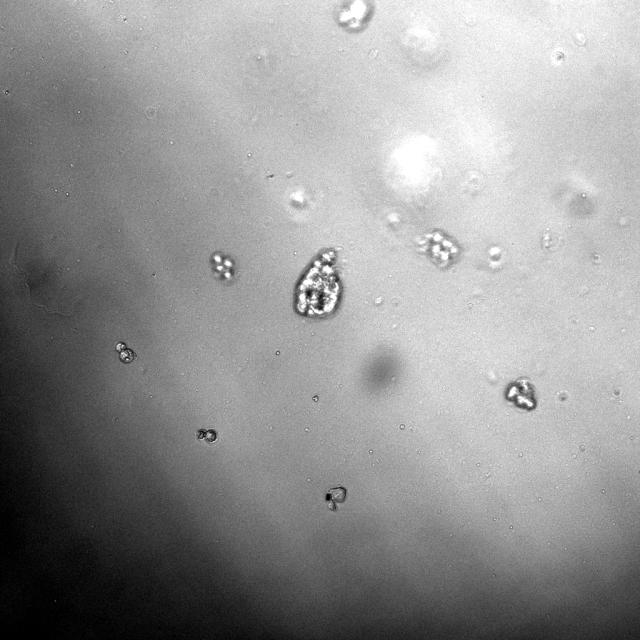organoid: (294, 247, 343, 318), (416, 229, 461, 268), (505, 378, 536, 411), (211, 252, 236, 281), (324, 488, 347, 512), (115, 341, 136, 363), (195, 429, 219, 445)
